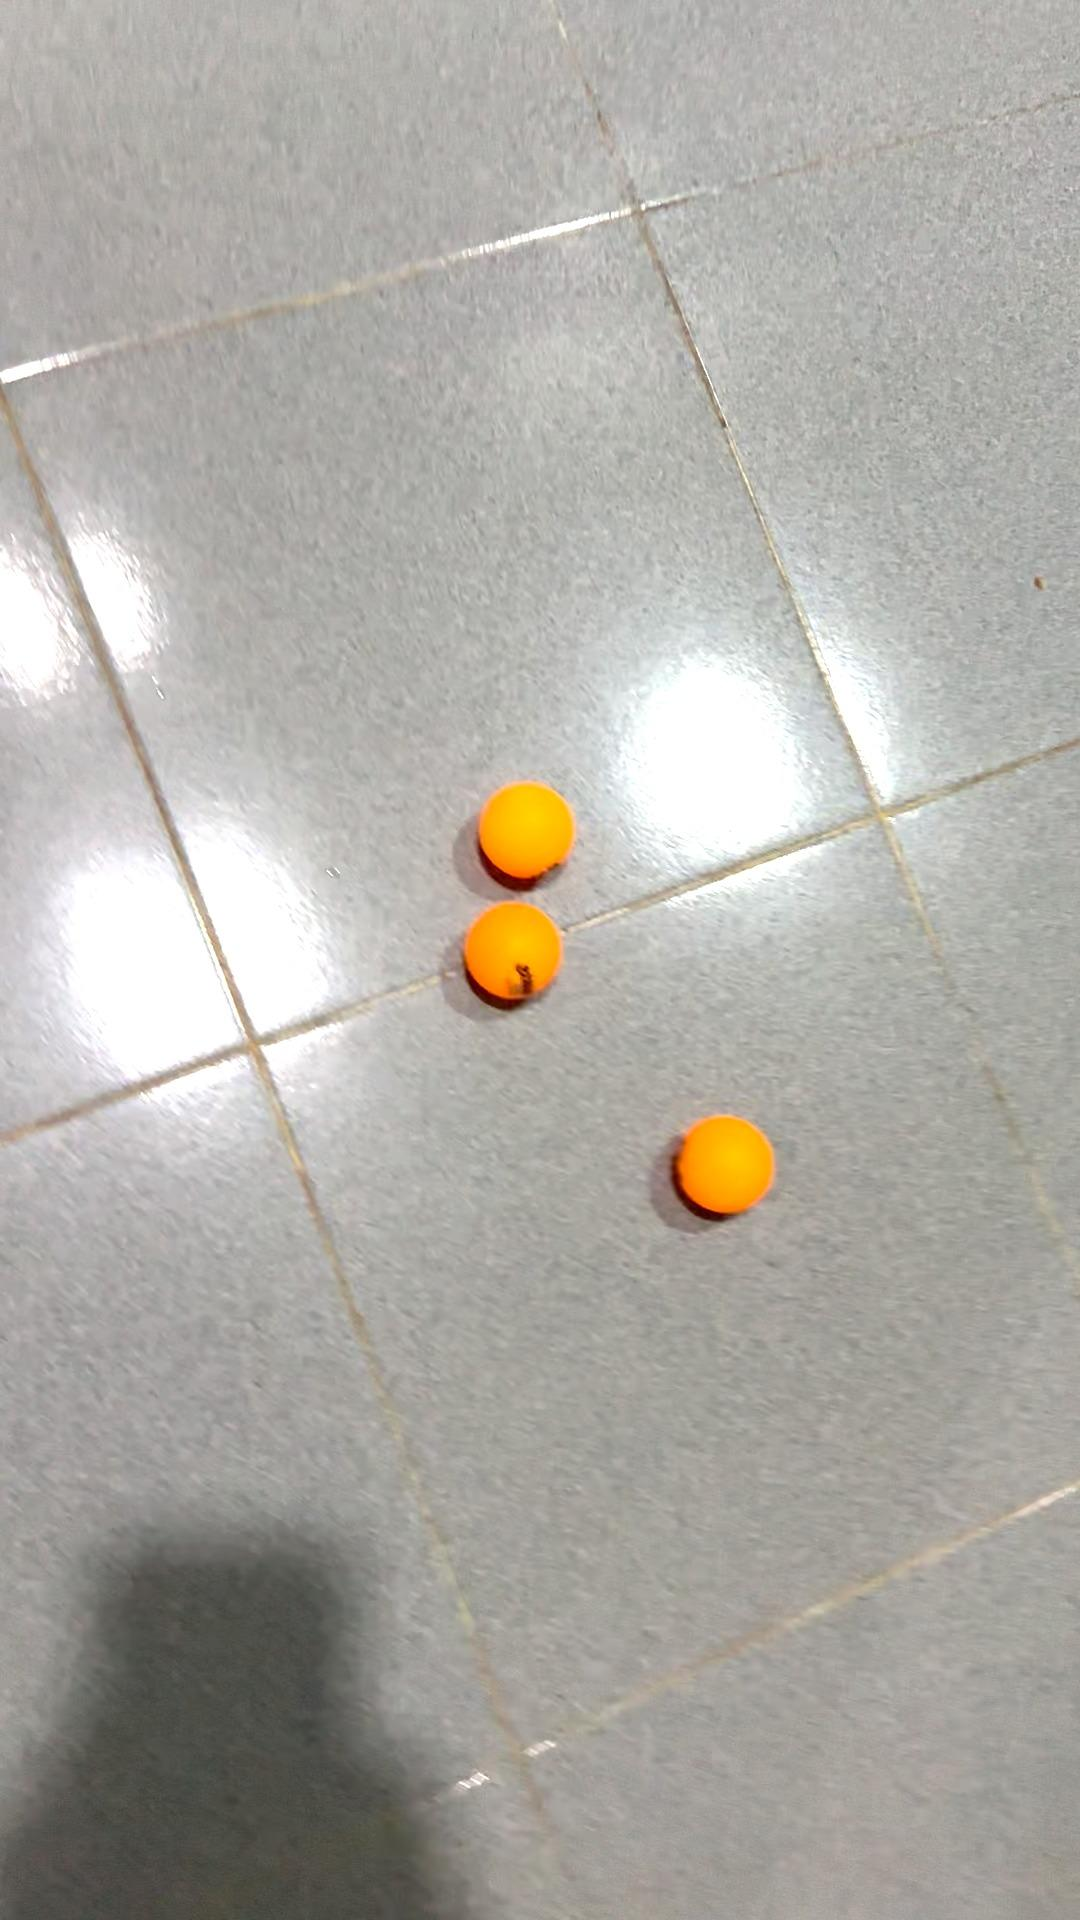oball: (468, 771, 575, 893), (669, 1109, 775, 1226), (462, 901, 568, 1015)
